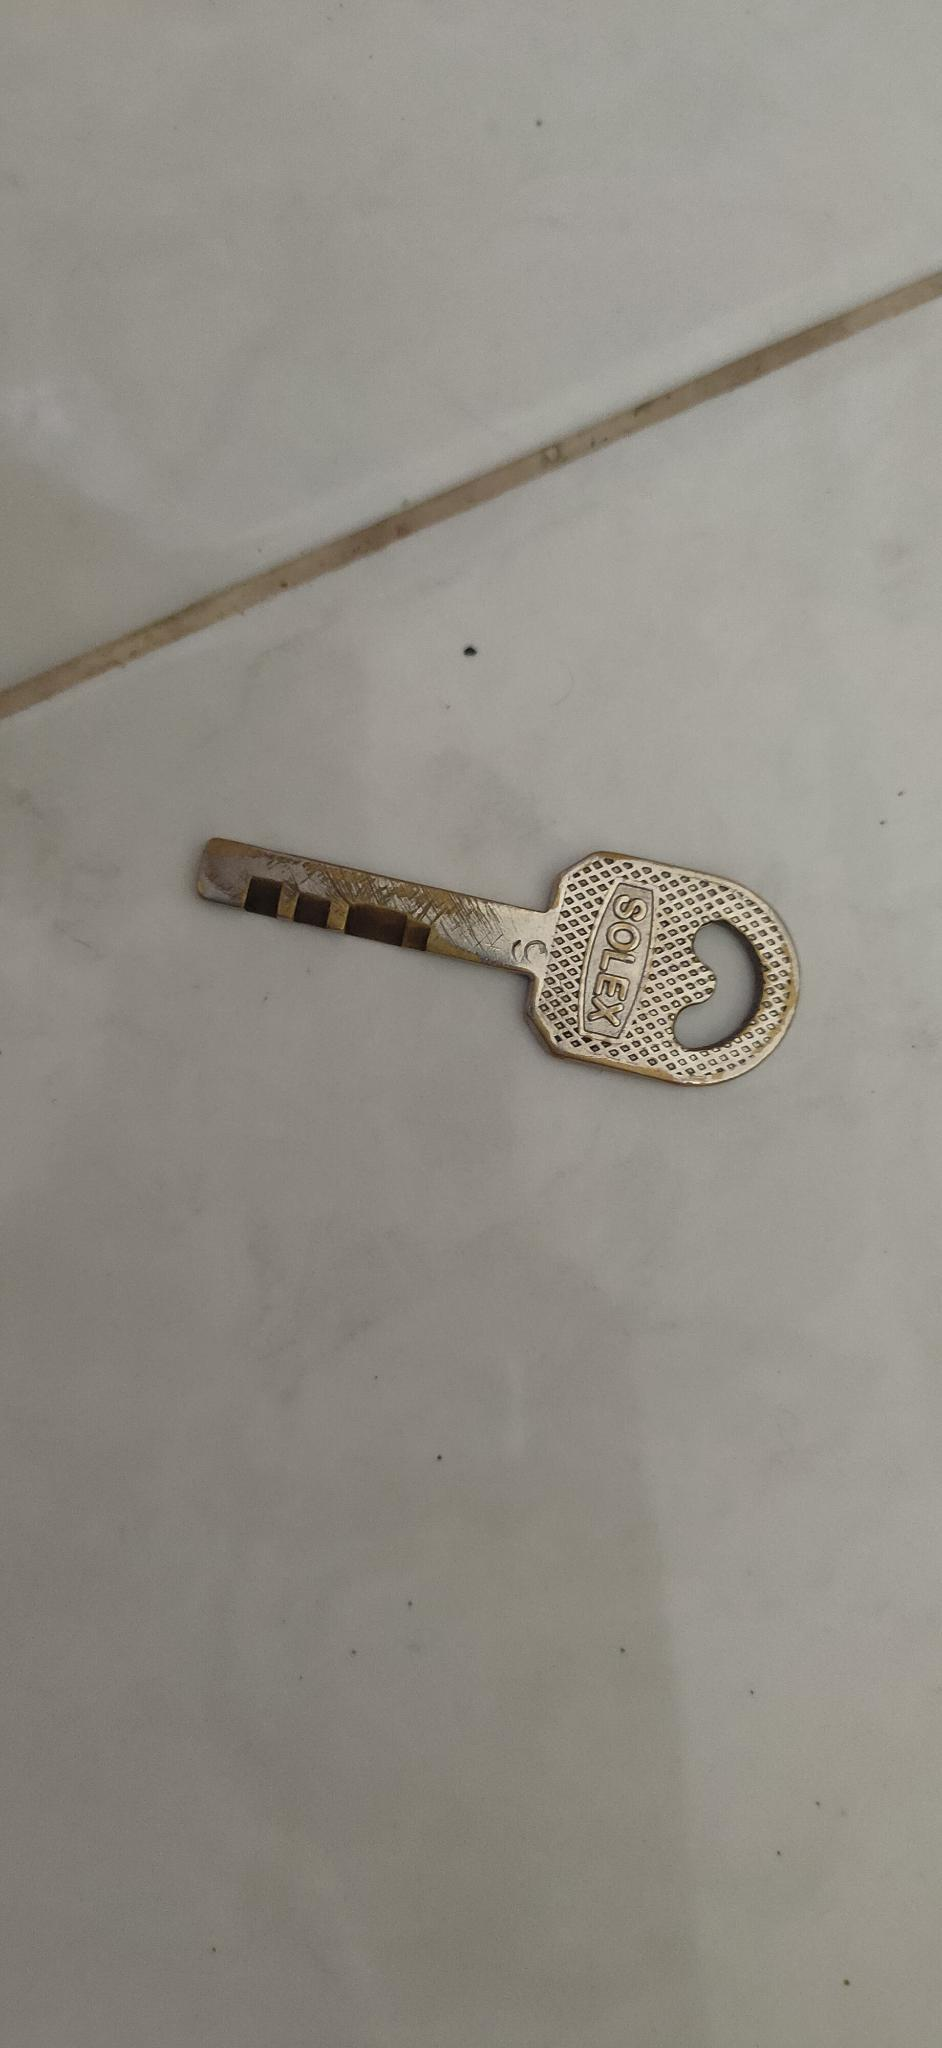keys: (182, 769, 809, 1096)
